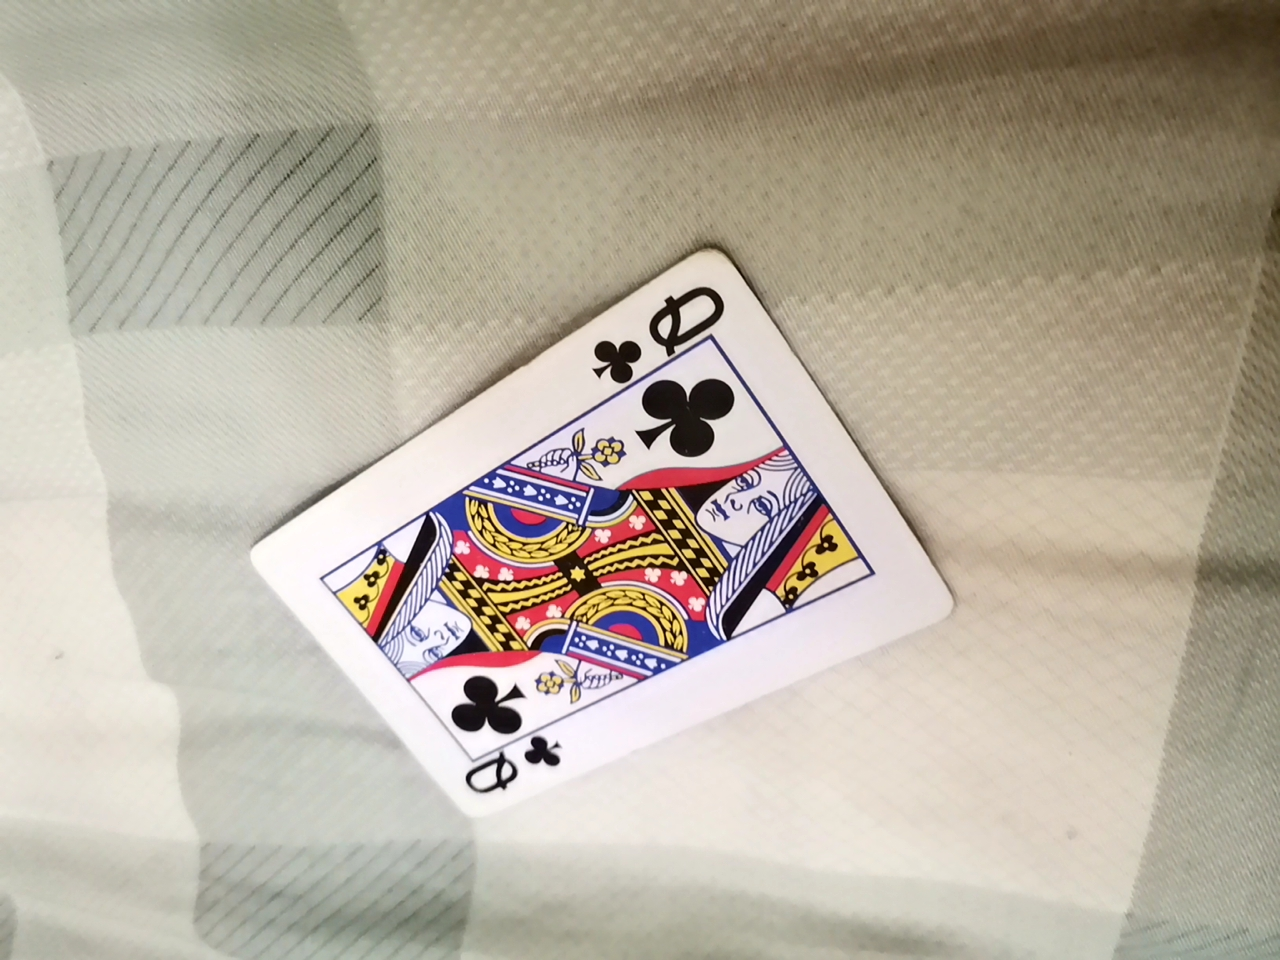mh q: (241, 264, 957, 837)
